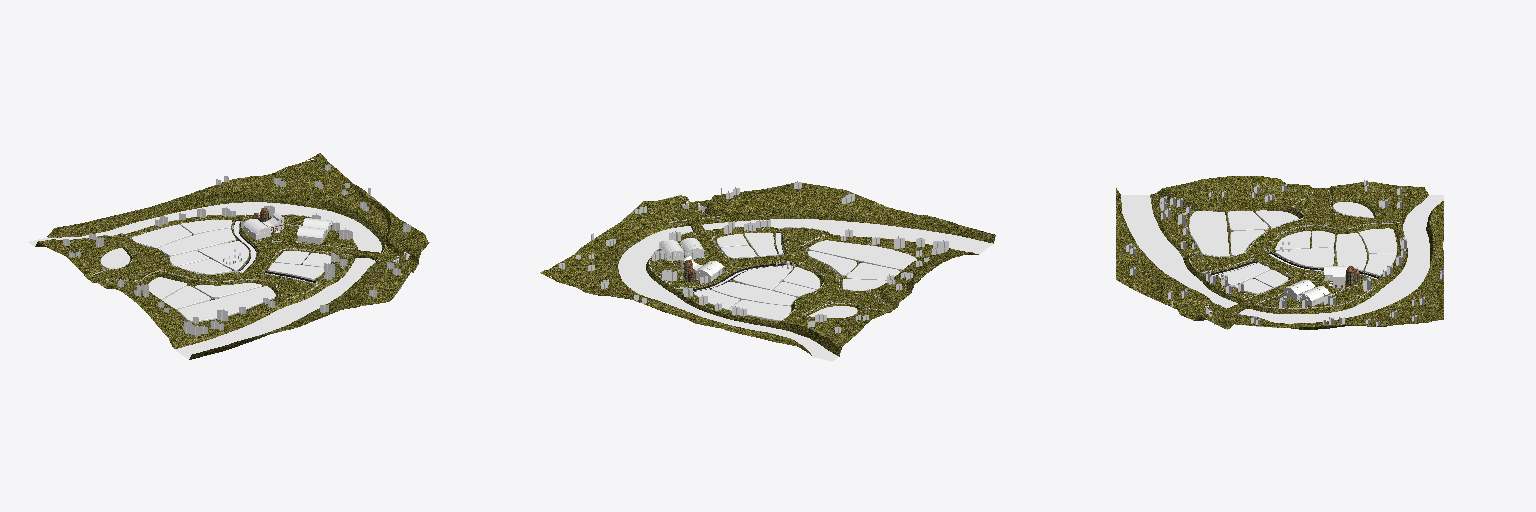
3 views of the same model, side by side, from view 1: azimuth 30°, elevation 25°; view 2: azimuth 150°, elevation 25°; view 3: azimuth 270°, elevation 25° (orthographic).
Parts seen in each view (by area): view 1: Object.26, Object.5, Object.1, Object.23, Object.8; view 2: Object.26, Object.5, Object.1, Object.23, Object.8; view 3: Object.26, Object.5, Object.1, Object.23, Object.8.
Boxes of the visible parts, x1=… form: Object.26: x1=35, y1=153, x2=429, y2=359; Object.5: x1=100, y1=220, x2=330, y2=321; Object.1: x1=28, y1=202, x2=381, y2=359; Object.23: x1=63, y1=164, x2=410, y2=336; Object.8: x1=243, y1=213, x2=330, y2=237; Object.26: x1=540, y1=182, x2=995, y2=356; Object.5: x1=694, y1=233, x2=916, y2=320; Object.1: x1=618, y1=219, x2=992, y2=361; Object.23: x1=559, y1=181, x2=948, y2=333; Object.8: x1=660, y1=238, x2=723, y2=275; Object.26: x1=1116, y1=176, x2=1443, y2=329; Object.5: x1=1189, y1=202, x2=1396, y2=293; Object.1: x1=1121, y1=195, x2=1443, y2=323; Object.23: x1=1126, y1=180, x2=1443, y2=326; Object.8: x1=1286, y1=266, x2=1348, y2=300.
Bounding box in the file's own units: 231 × 15.5 × 223.
Materials: 23 (5 with a texture image).